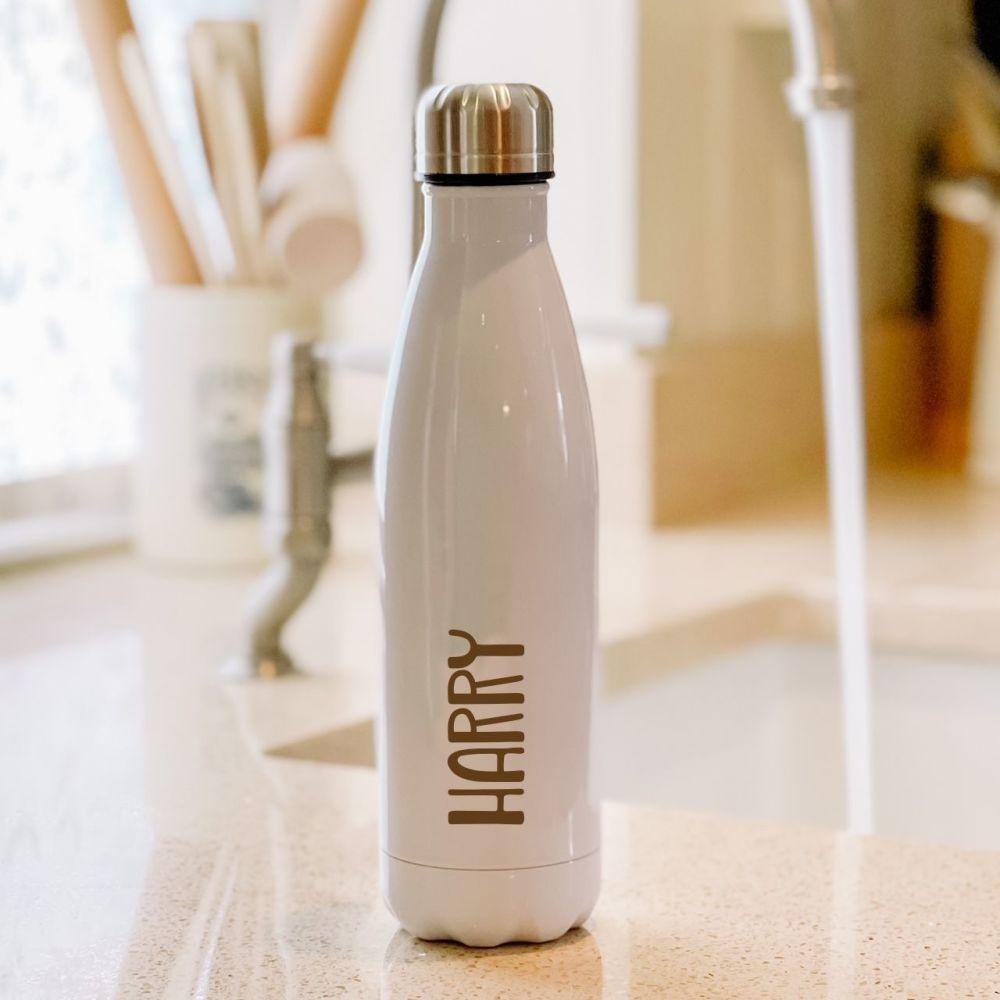gym bottle: (371, 80, 610, 950)
